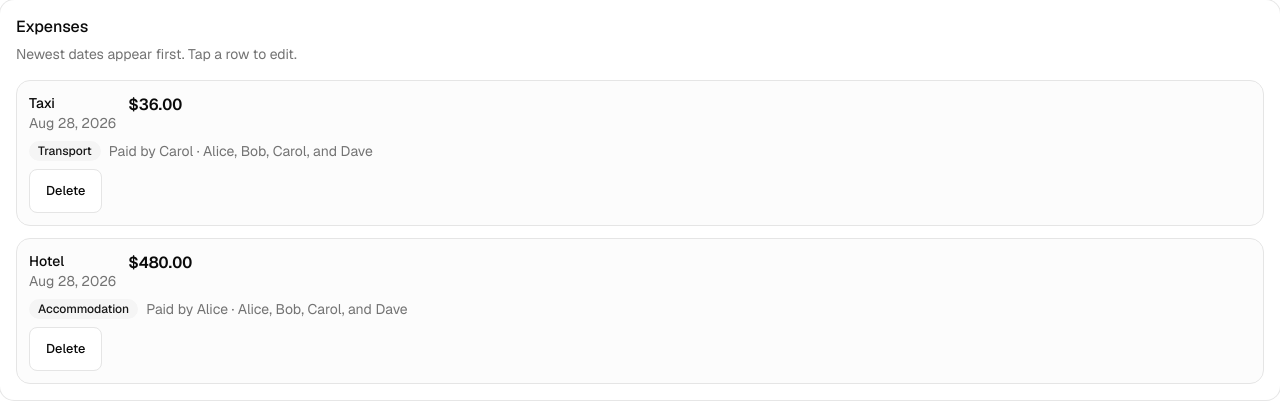
ExpenseList undo › keeps the undo banner hittable for at least ten seconds
The image size is (1280, 420).
Click the 1st button "Delete": click(66, 191) [29, 169, 102, 213]
Wait 10000 ms
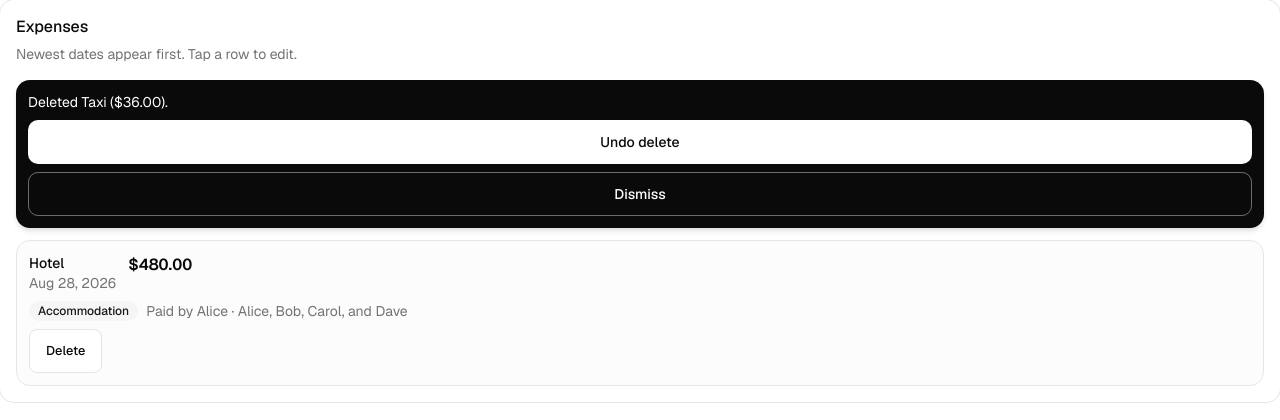
Now the text "Undo delete" is shown, box [28, 120, 1252, 164]
Now the text "Deleted Taxi" is shown, box [28, 93, 168, 111]
